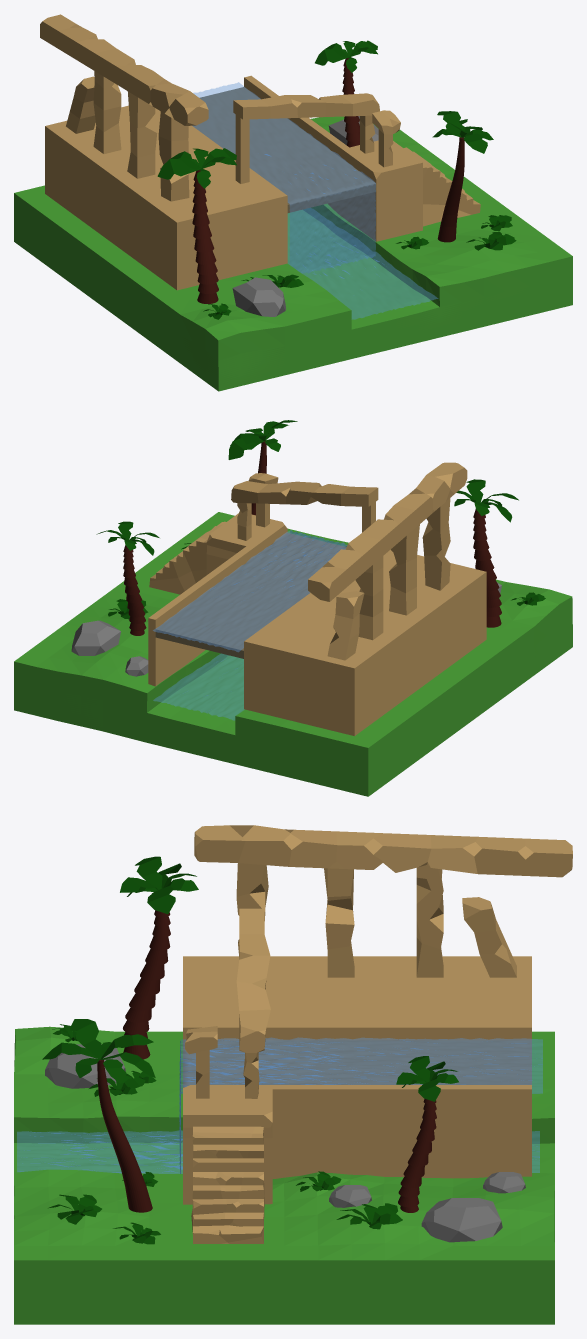
File: Ancient_Ruin.glb
3 renders of one model, top to bottom at view 1: azimuth 30°, elevation 25°; view 2: azimuth 150°, elevation 25°; view 3: azimuth 270°, elevation 25°, orthographic. The views are drawn at different scales.
Visible parts, largest first — view 1: Icosphere; view 2: Icosphere; view 3: Icosphere.
Boxes of the visible parts, x1,y1,x2,y2 form: Icosphere: (14,14,572,391); Icosphere: (14,420,572,796); Icosphere: (14,825,572,1324).
Size of the model in its own units: 5.29 by 3.19 by 5.46.
Materials: 7 (7 with a texture image).
